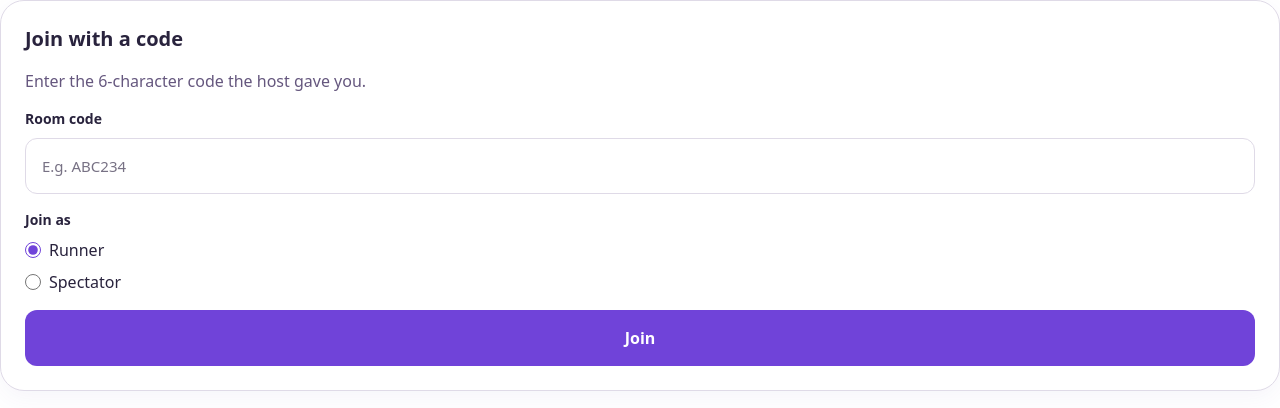
Test: formulaire « rejoindre avec un code » (en) › met le code en majuscules, sans espaces ni tirets, sur 6 caractères au plus
Type "abc-def" into the field labelled "Room code".
click(640, 166); type("abc-def")  # box top-left (25, 138), bottom-right (1255, 194)
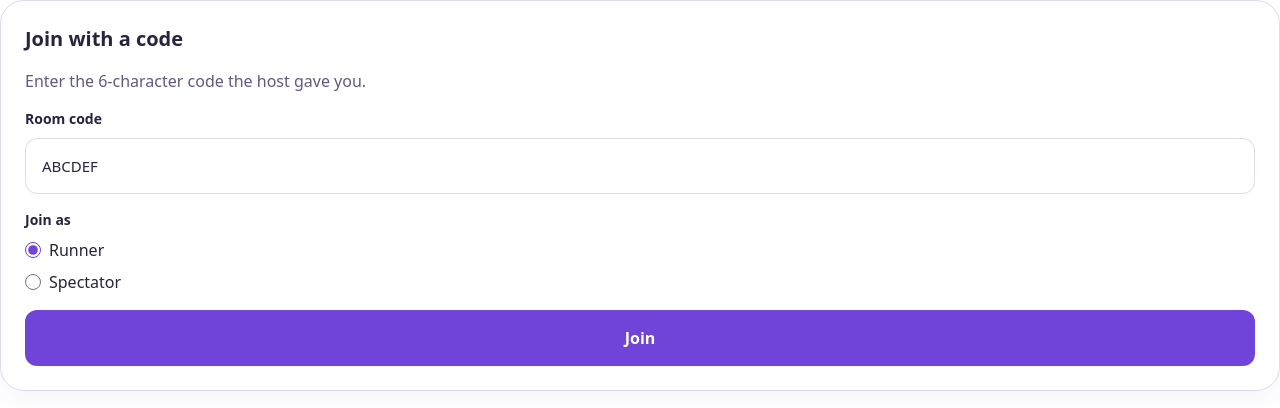
expect the field labelled "Room code" holds "ABCDEF": met
Replace the text in the field labelled "Room code" with " ab c2 " at [640, 166], box top-left (25, 138), bottom-right (1255, 194)
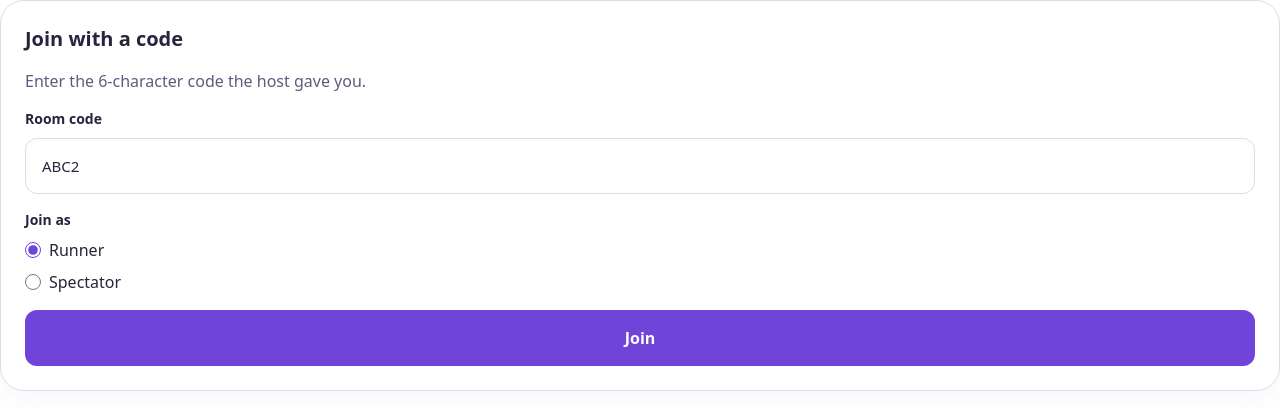
expect the field labelled "Room code" holds "ABC2": met
Replace the text in the field labelled "Room code" with "abcdefghij" at [640, 166], box top-left (25, 138), bottom-right (1255, 194)
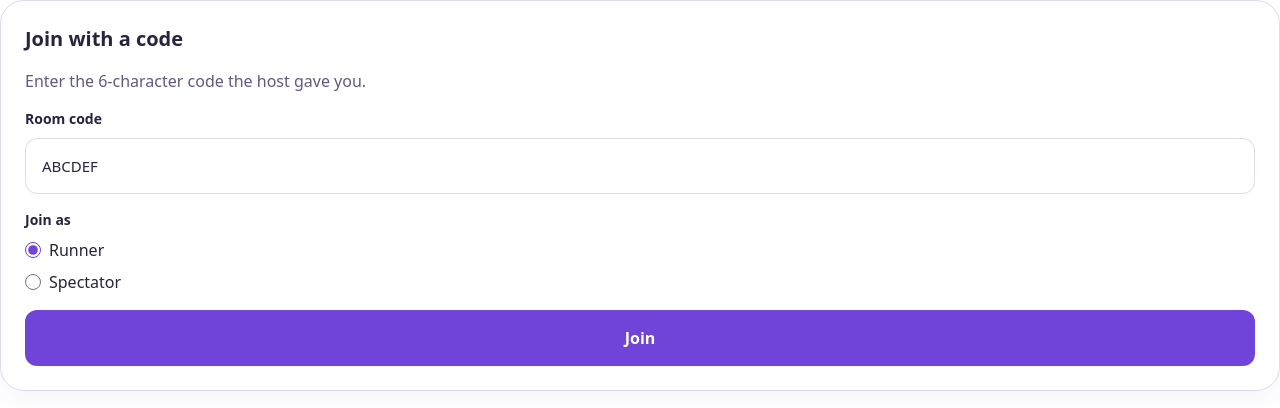
expect the field labelled "Room code" holds "ABCDEF": met, box top-left (25, 138), bottom-right (1255, 194)
